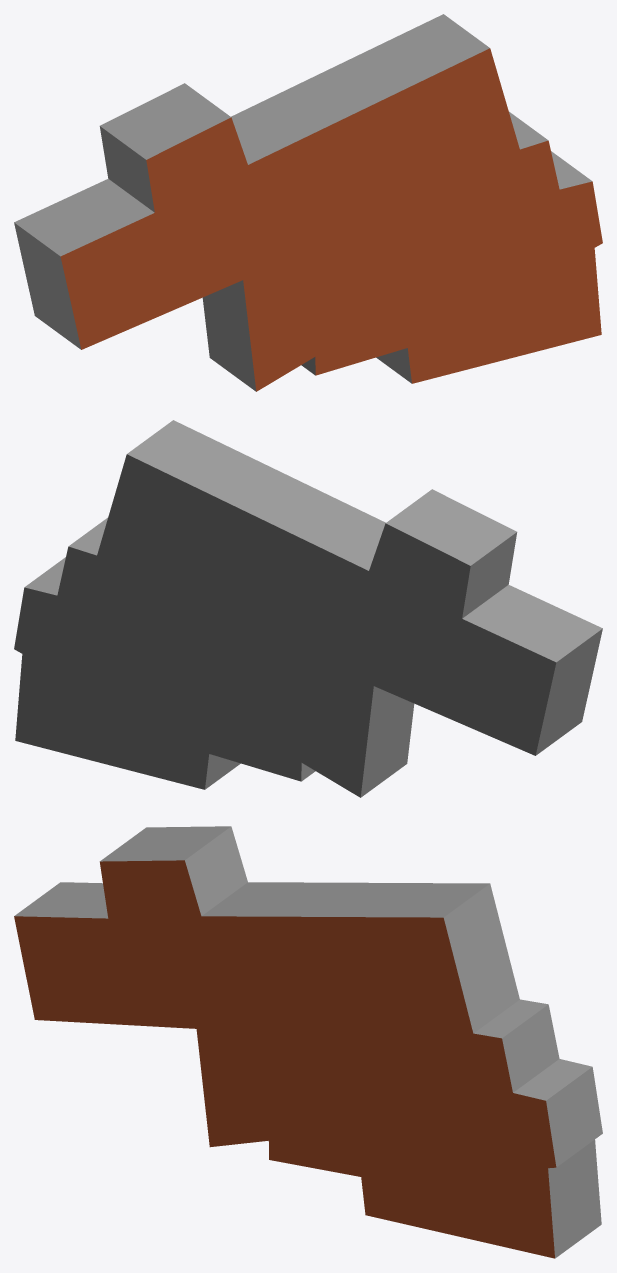
The model's file is construction_6632_assumed_A_Casa_h6m.obj.
3 renders of one model, top to bottom at view 1: azimuth 30°, elevation 25°; view 2: azimuth 150°, elevation 25°; view 3: azimuth 330°, elevation 25°, orthographic.
Parts seen in each view (by area): view 1: construction_6632_assumed_A_Casa; view 2: construction_6632_assumed_A_Casa; view 3: construction_6632_assumed_A_Casa.
Boxes of the visible parts, <box> form: construction_6632_assumed_A_Casa: <box>14,14,602,391</box>; construction_6632_assumed_A_Casa: <box>14,420,602,797</box>; construction_6632_assumed_A_Casa: <box>14,826,602,1258</box>.
Size of the model in its own units: 40.33 by 22.5 by 6.
